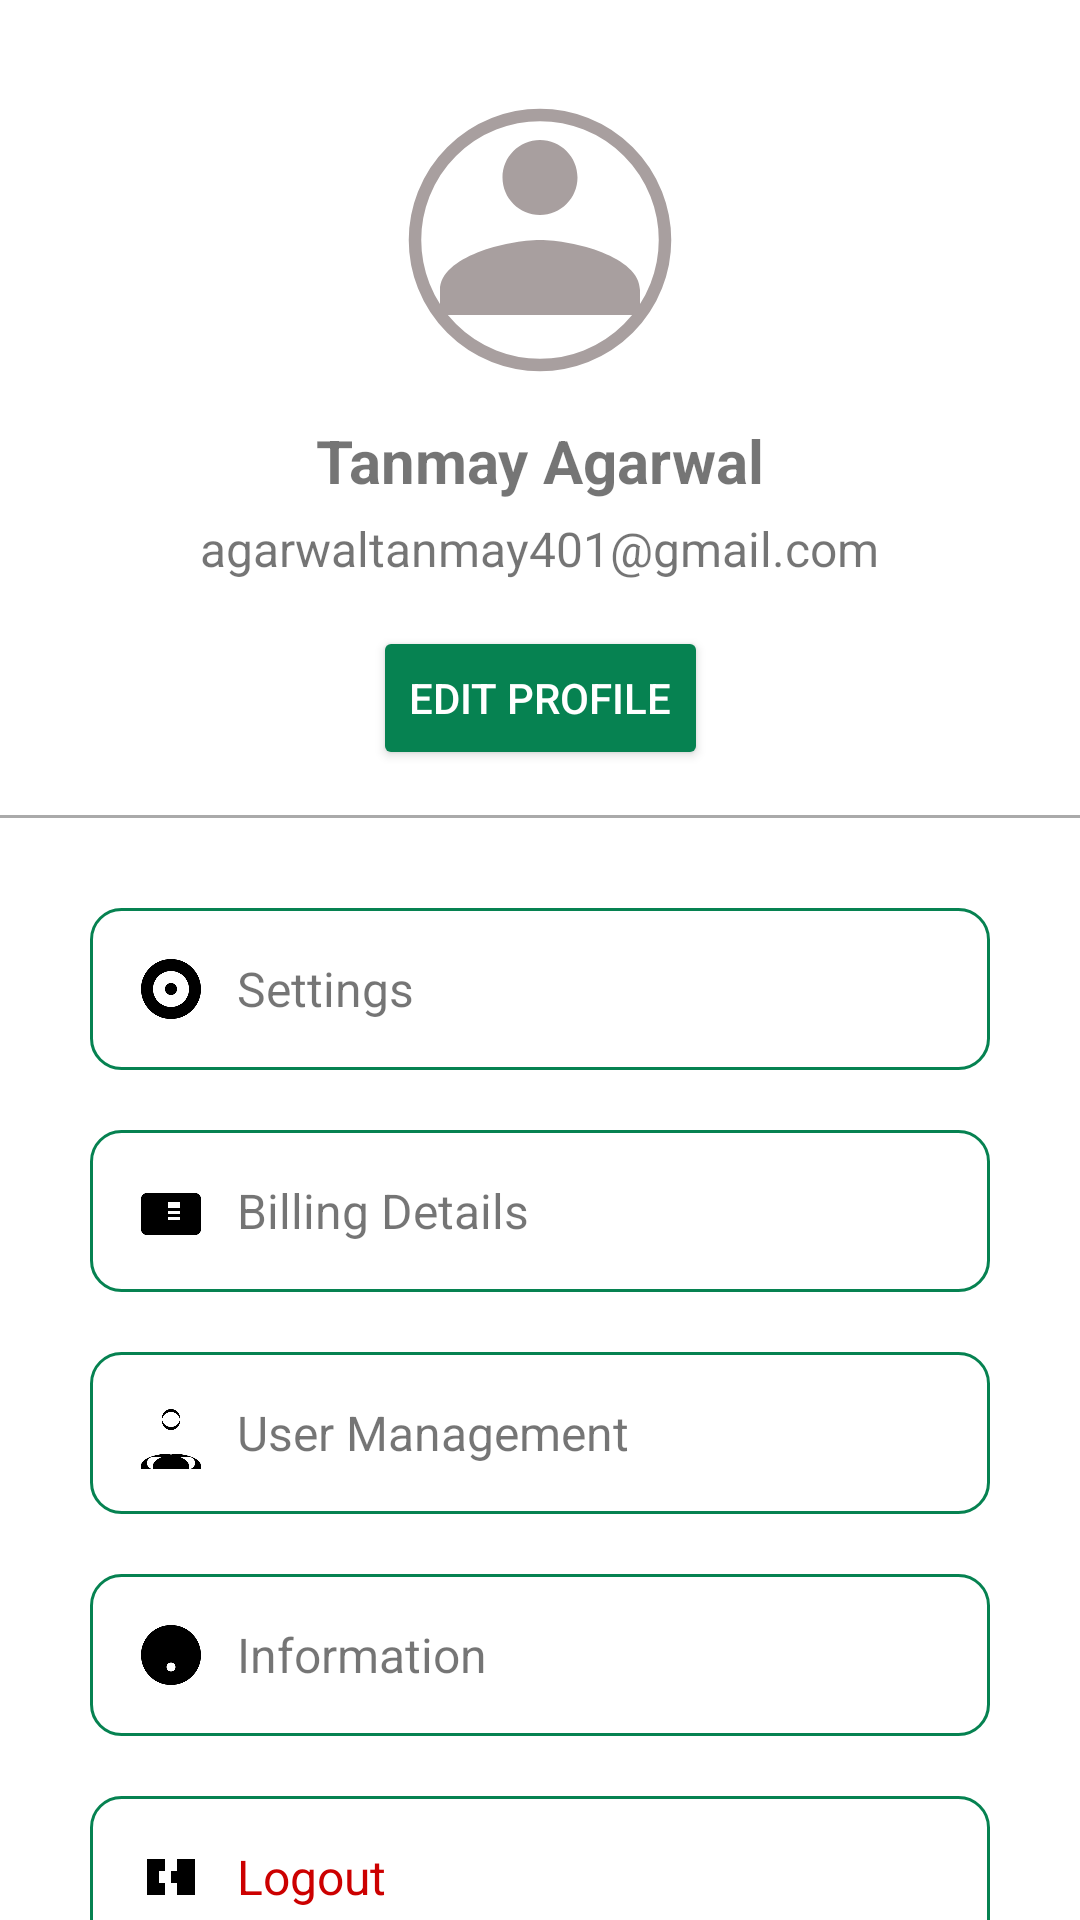

Icon bounding boxes for this 1080px x 1920px phone screenshot, format [x1, y1, x2, y2]:
profile: [409, 109, 671, 371]
